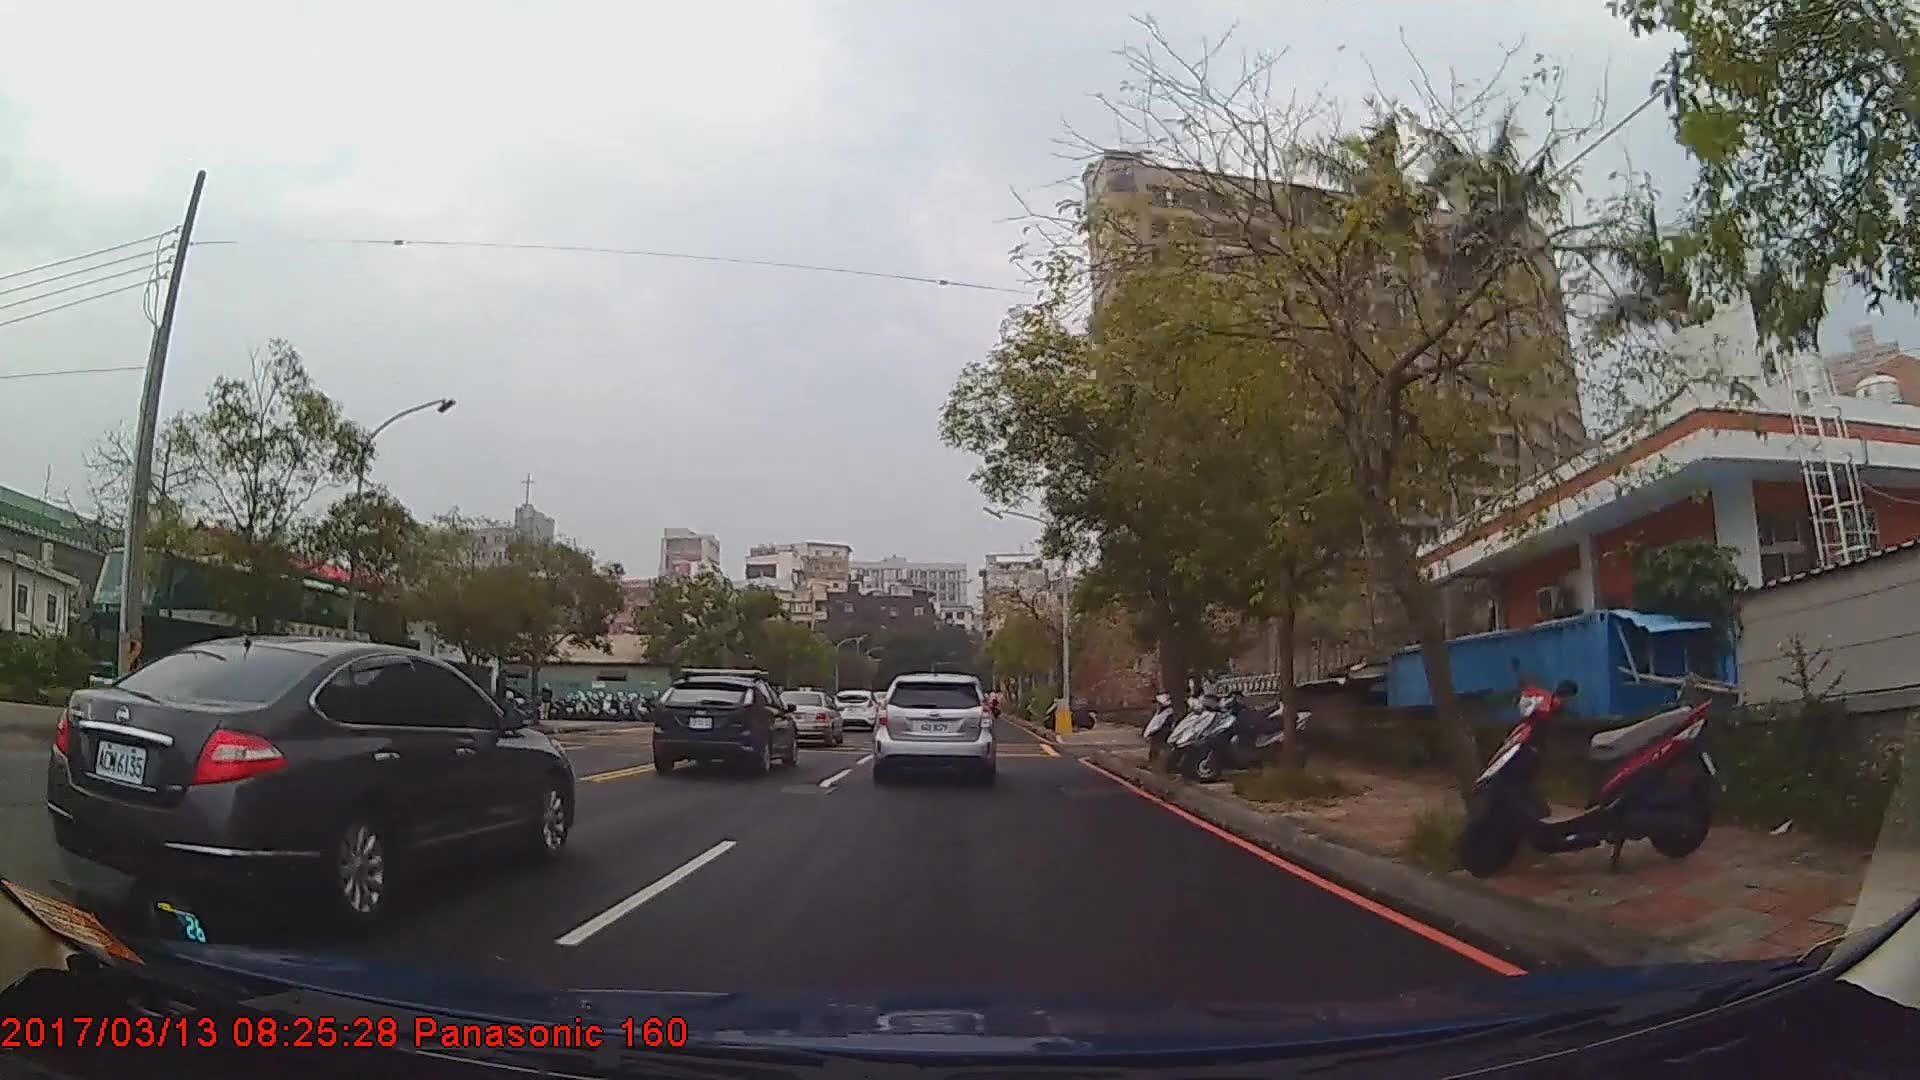vehicle: (42, 633, 570, 926), (74, 539, 406, 745), (649, 673, 798, 778), (872, 673, 996, 785), (770, 688, 841, 748), (829, 688, 880, 732)
